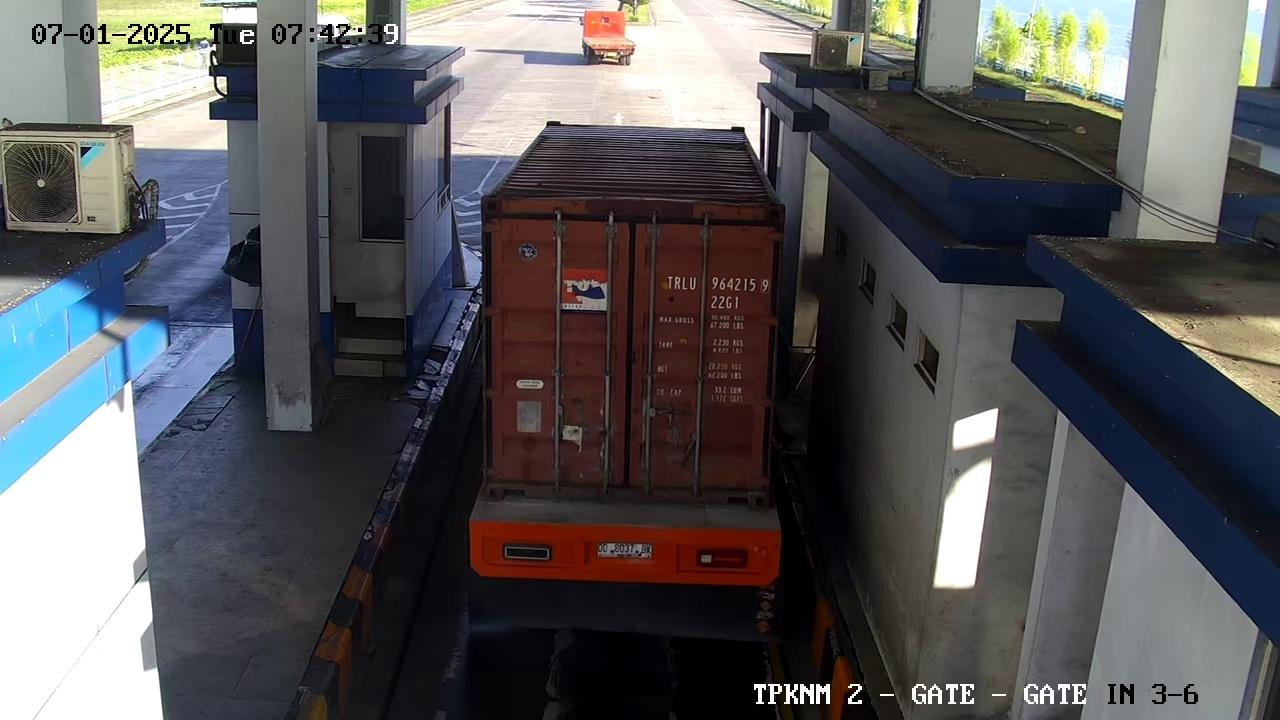Container_ID: (658, 265, 781, 315)
plate_number: (591, 534, 657, 571)
